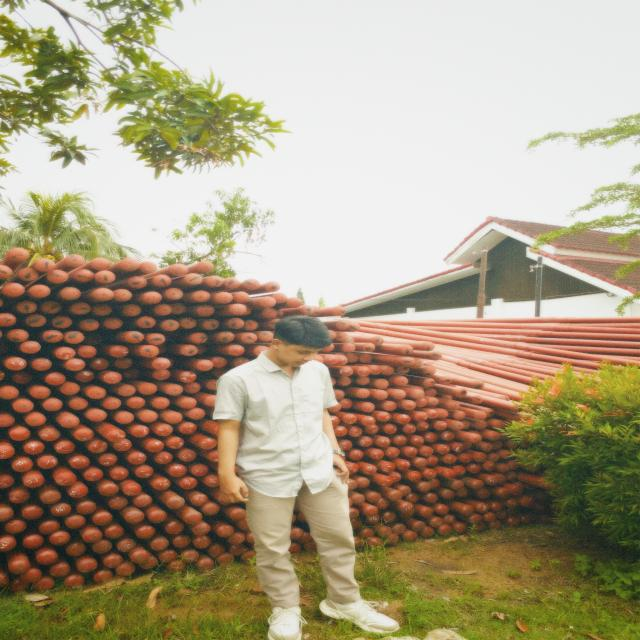nohelmet: (263, 307, 335, 379)
